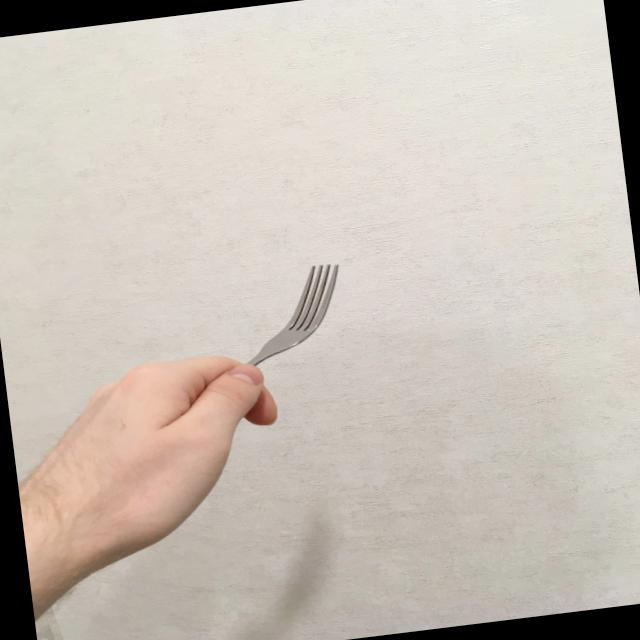fork: (139, 259, 358, 446)
